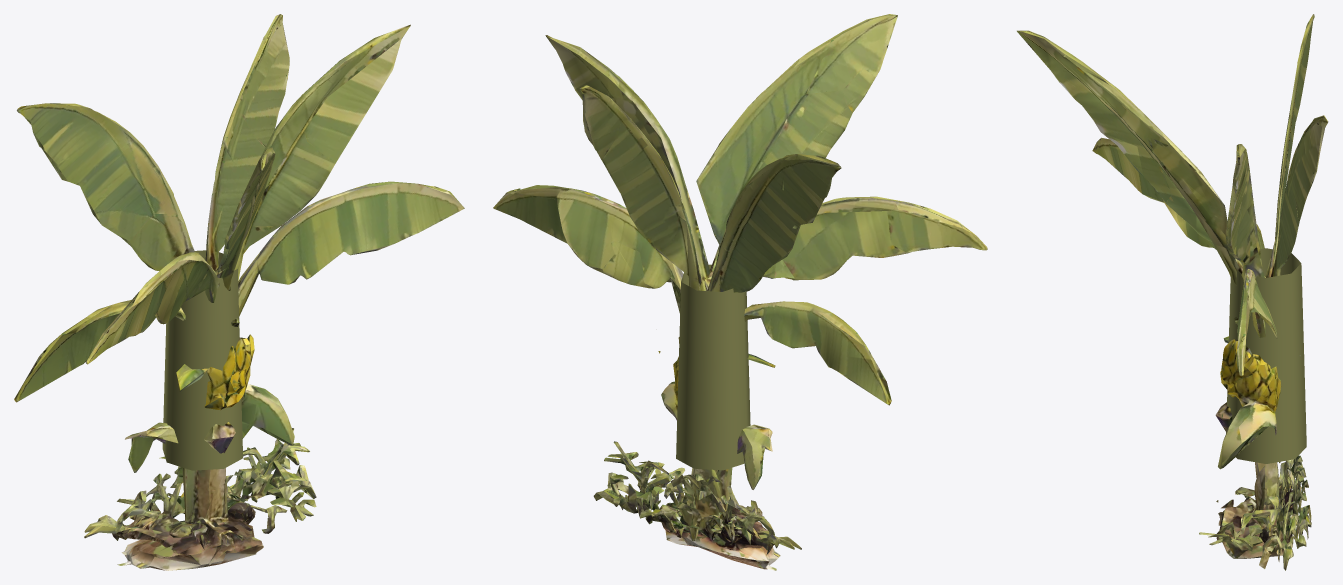
Rendered from turtle-prop-banana-plant.glb.
The picture shows the model from 3 angles, left to right: view 1: azimuth 30°, elevation 25°; view 2: azimuth 150°, elevation 25°; view 3: azimuth 270°, elevation 25°; orthographic projection. The views are drawn at different scales.
Parts seen in each view (by area): view 1: Mesh_0; view 2: Mesh_0; view 3: Mesh_0.
Part boxes in pixels (left/top/right/bottom): Mesh_0: left=14, top=14, right=464, bottom=570; Mesh_0: left=493, top=14, right=987, bottom=570; Mesh_0: left=1017, top=14, right=1328, bottom=570.
Bounding box in the file's own units: 0.3767 × 0.3949 × 0.2306.
1 material, 1 textured.
